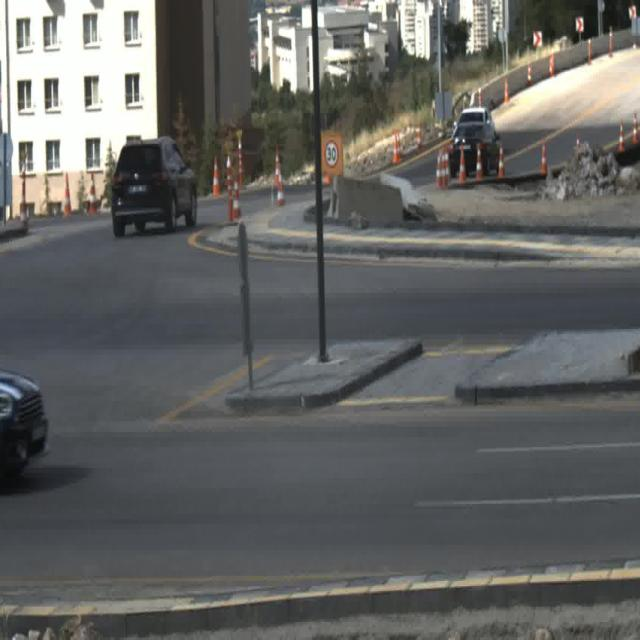Car: (113, 140, 200, 233), (0, 370, 48, 489), (449, 126, 502, 176), (459, 108, 494, 133)
